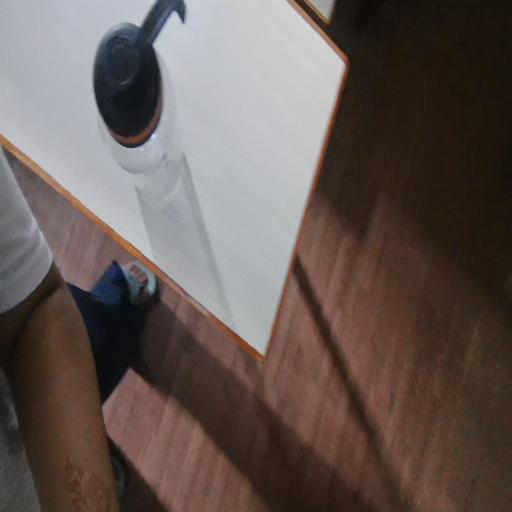Bottle: (78, 13, 203, 210)
